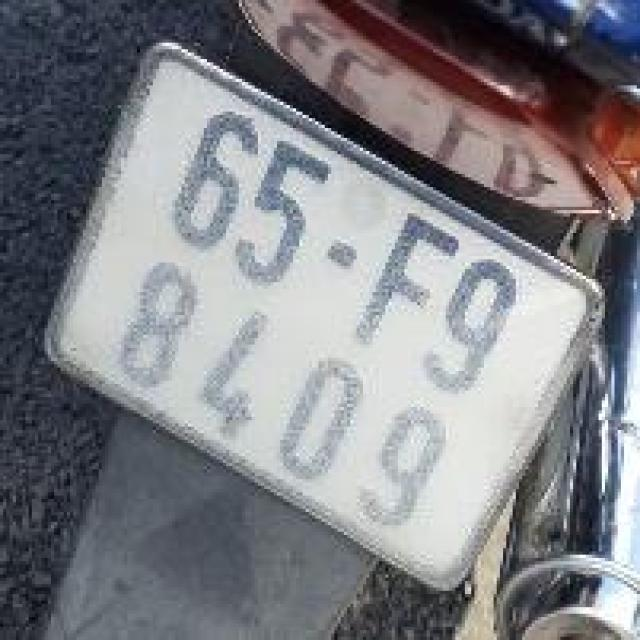0: (262, 343, 388, 496)
4: (184, 295, 308, 450)
5: (220, 133, 345, 297)
6: (158, 98, 273, 266)
8: (107, 252, 220, 405)
9: (414, 237, 540, 412), (347, 385, 467, 542)
F: (343, 199, 471, 365)
